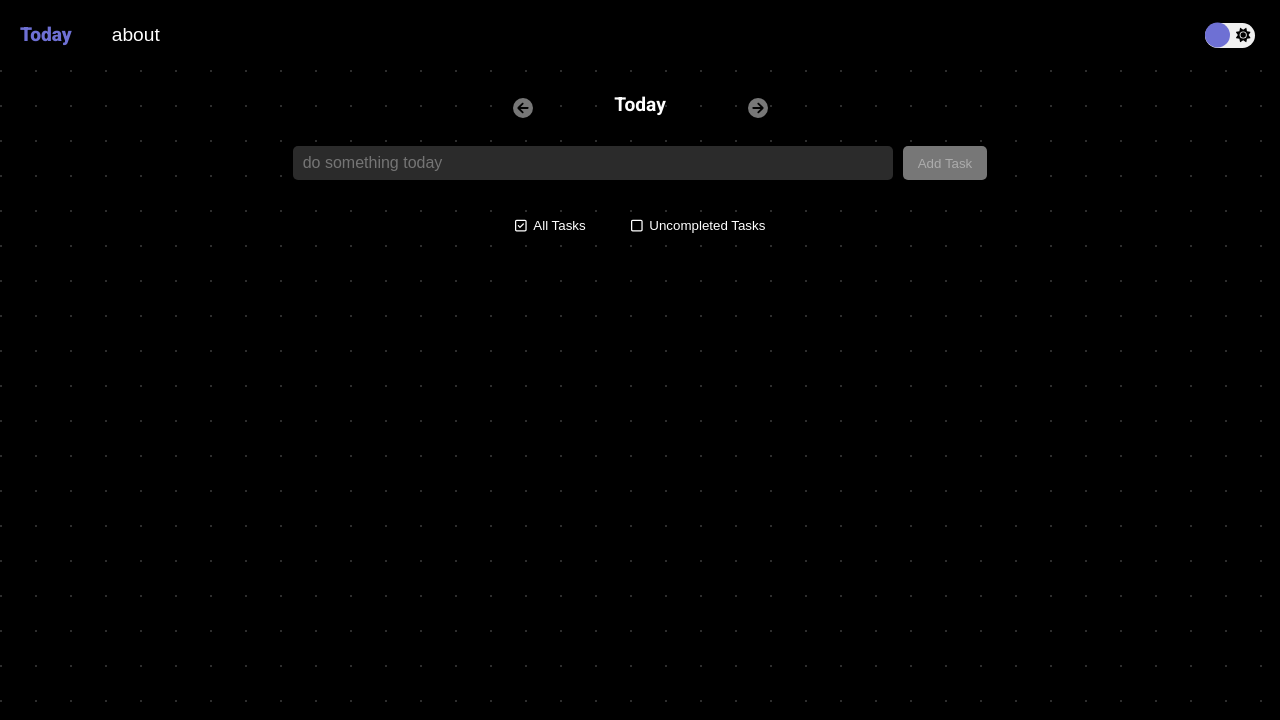
Scenario: My First Test › Task Actions › Edit task
Type "Edt this" into the field with test id "newTaskInput". click: (593, 163)
box: [293,146,893,180]
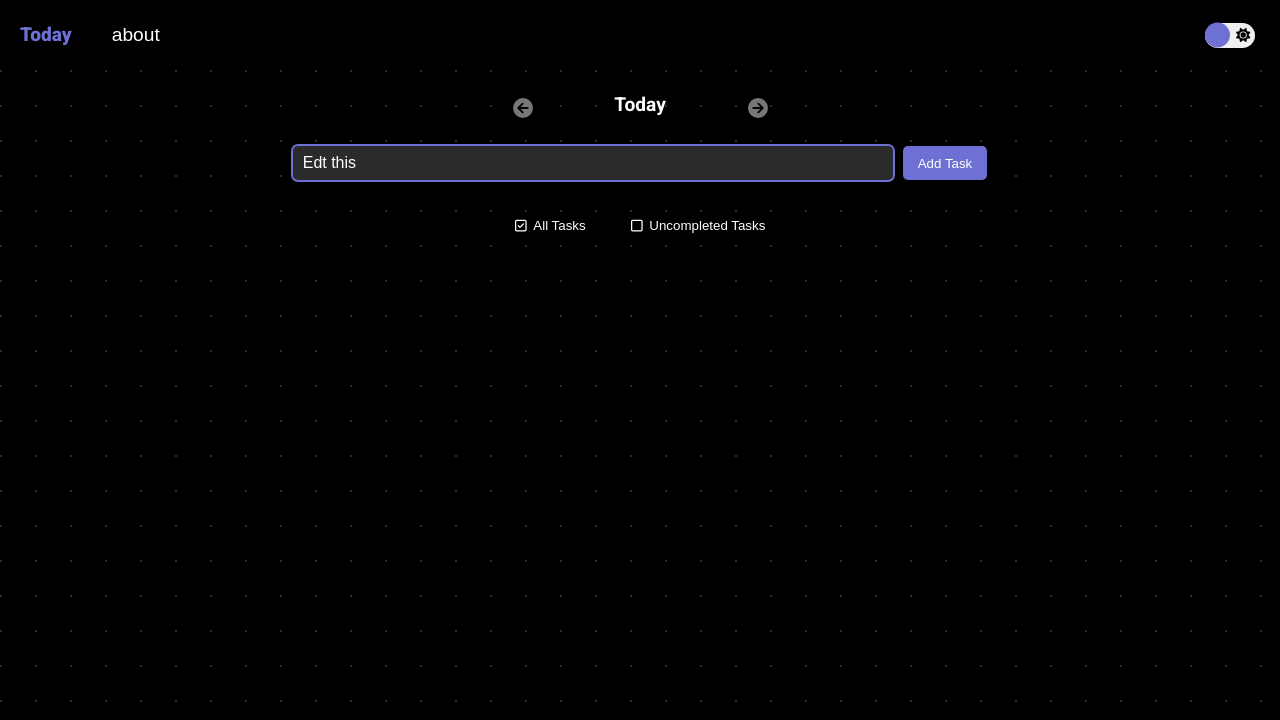
Click the button with test id "newTaskSubmit". click: (946, 163)
box: [903,146,988,180]
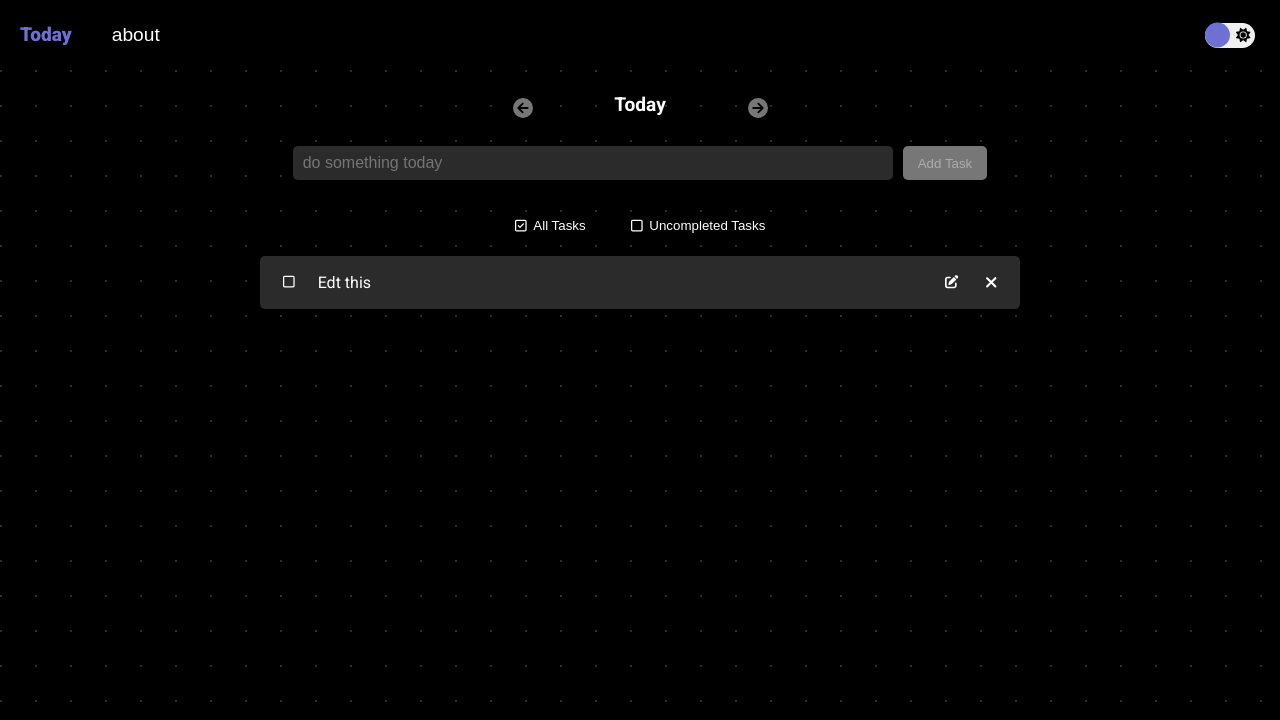
Click the button with test id "editTask". click: (952, 283)
box: [935,266,968,299]
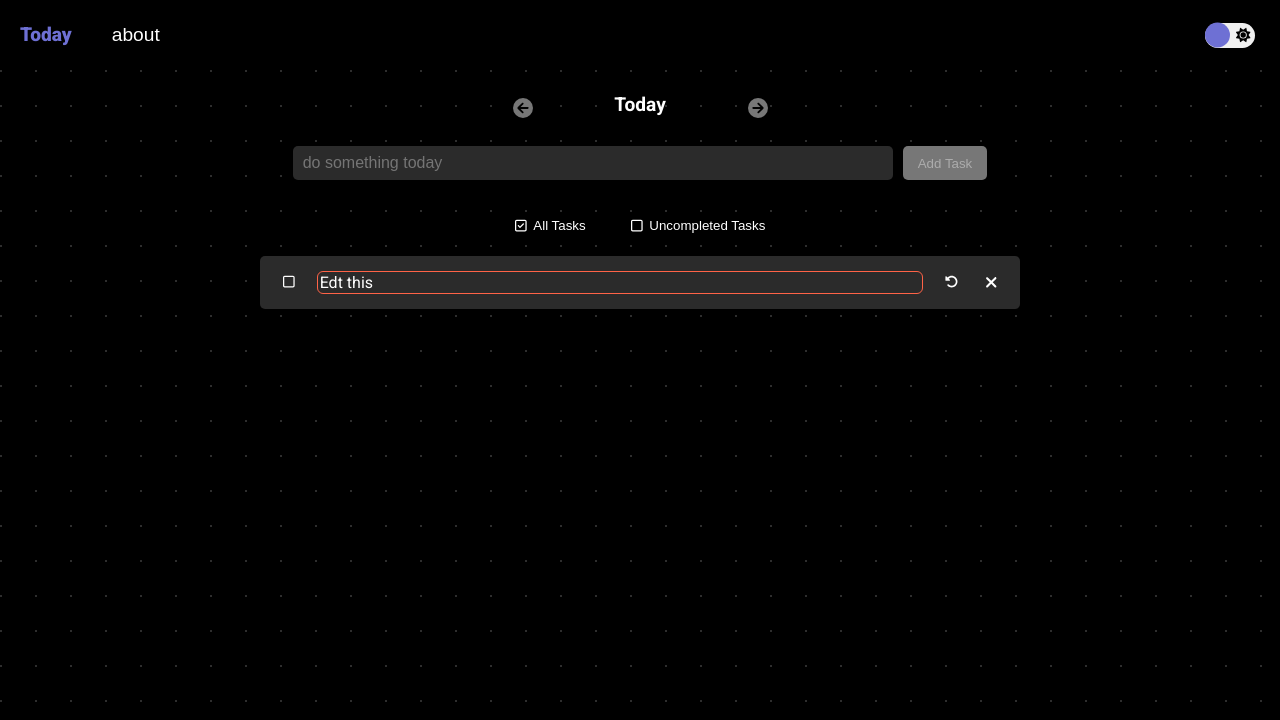
Replace the text in the 2nd field with "Edit This". click: (621, 283)
box: [318,272,923,293]
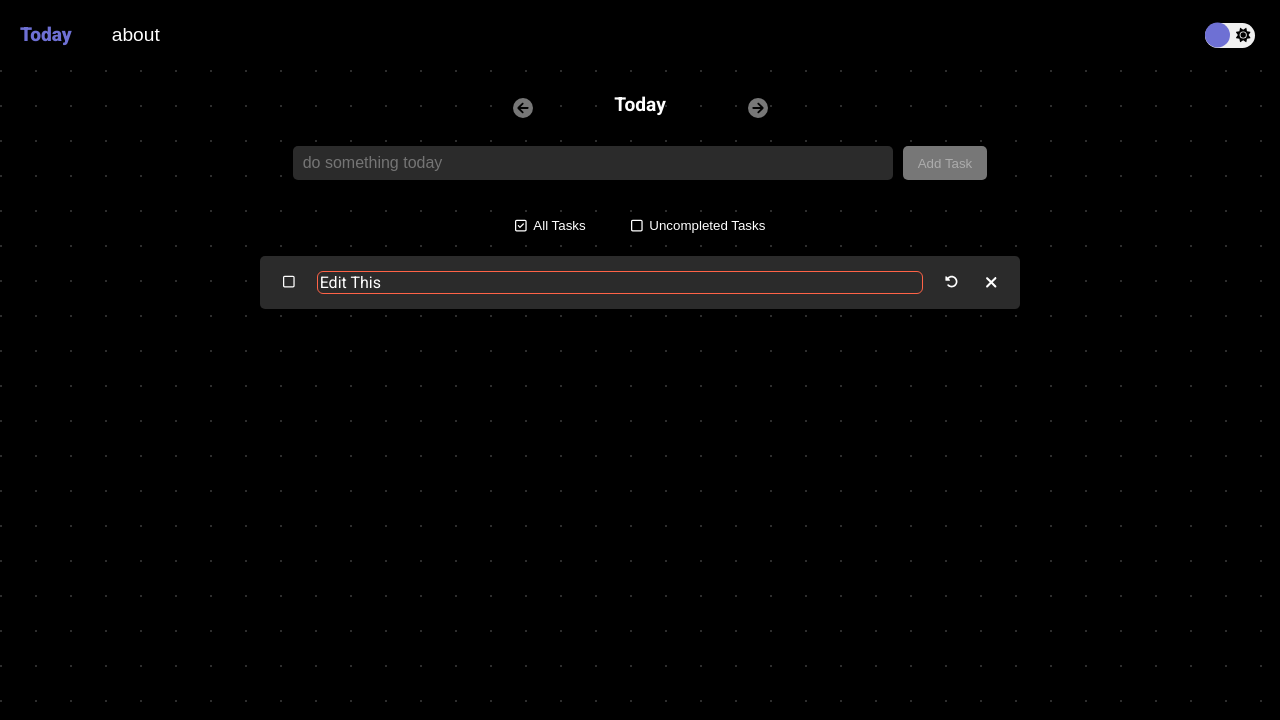
Press Enter in the 2nd field, box [318,272,923,293]
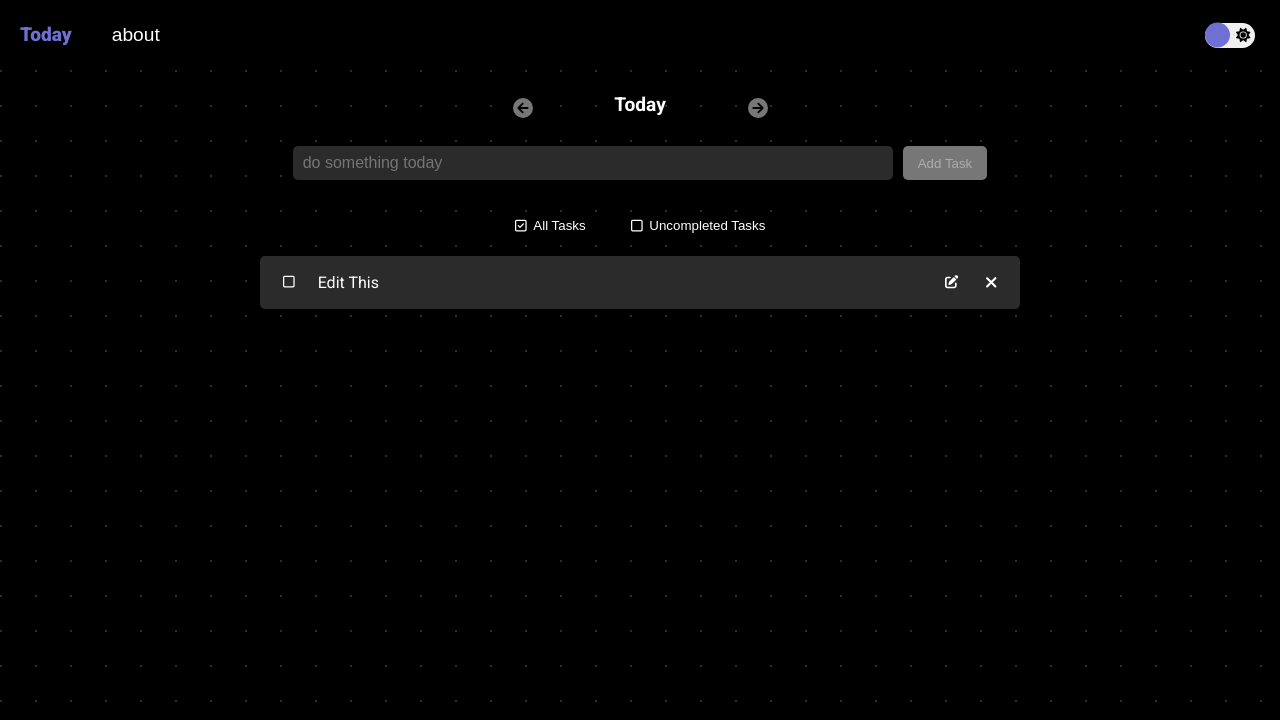
Check: the text "Edit This" is shown, box [318,270,379,295]
